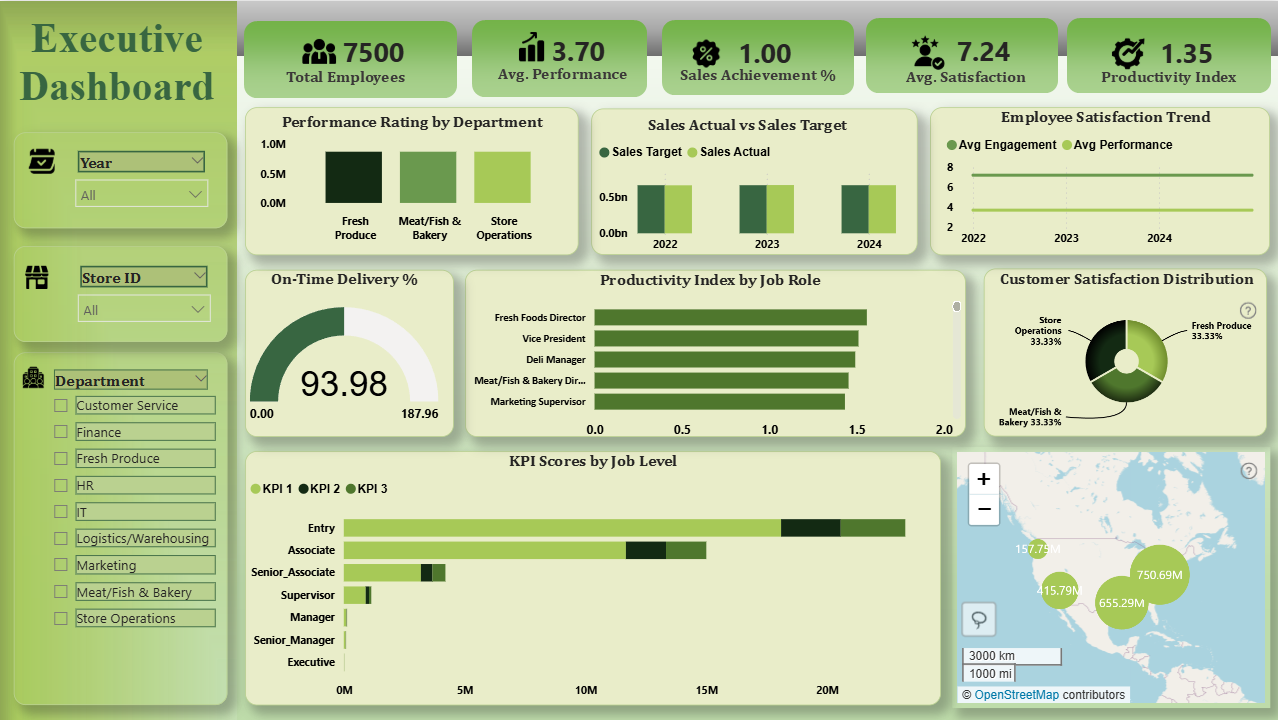

This screenshot's page, from the dashboard's own definition file:
{"tool":"powerbi","page":{"name":"Executive Dashboard","canvas":[1280,720],"ordinal":0},"visuals":[{"type":"shape","box":[245.4,450.4,695.8,254.3],"z":0},{"type":"shape","box":[984.2,266.9,283.4,168.3],"z":1000},{"type":"shape","box":[465.5,268.2,501,167],"z":2000},{"type":"shape","box":[245.4,268.2,208.7,167],"z":3000},{"type":"shape","box":[929.8,106.3,340.3,148],"z":4000},{"type":"shape","box":[590.8,107.5,326.4,146.7],"z":5000},{"type":"shape","box":[245.4,106.3,334,148],"z":6000},{"type":"shape","box":[13.9,351.7,213.8,353],"z":7000},{"type":"shape","box":[13.9,245.4,213.8,96.1],"z":8000},{"type":"shape","box":[13.9,131.6,213.8,96.1],"z":9000},{"type":"slicer","fields":{"Values":["business_outcomes.Year_Month"]},"box":[64.5,145.5,153.1,72.1],"z":10000},{"type":"slicer","fields":{"Values":["stores.Store_Id"]},"box":[67,260.6,153.1,64.5],"z":11000},{"type":"slicer","fields":{"Values":["employees.Department"]},"box":[41.7,364.3,179.6,303.6],"z":12000},{"type":"card","fields":{"Values":["Data_Dictionary.Avg Satisfaction"]},"box":[947.5,34.2,72.1,34.2],"z":13000},{"type":"card","fields":{"Values":["employees.Sales Achievement %"]},"box":[726.2,36.7,77.2,32.9],"z":14000},{"type":"card","fields":{"Values":["Avg(monthly_performance.Performance_Rating)"]},"box":[545.2,30.4,67,41.7],"z":15000},{"type":"card","fields":{"Values":["Avg(role_kpis.Productivity_Index)"]},"box":[1150,36.7,73.4,32.9],"z":16000},{"type":"columnChart","title":"Performance Rating by Department","fields":{"Category":["business_outcomes.Department"],"Y":["Sum(monthly_performance.Performance_Rating)"]},"box":[255.5,111.3,313.7,137.9],"z":17000},{"type":"areaChart","title":"Employee Satisfaction Trend","fields":{"Category":["business_outcomes.Year_Month.Variation.Date Hierarchy.Year","business_outcomes.Year_Month.Variation.Date Hierarchy.Quarter","business_outcomes.Year_Month.Variation.Date Hierarchy.Month","business_outcomes.Year_Month.Variation.Date Hierarchy.Day"],"Y":["Data_Dictionary.Avg Engagement","Data_Dictionary.Avg Performance"]},"box":[941.2,106.3,328.9,148],"z":18000},{"type":"barChart","title":"Productivity Index by Job Role","fields":{"Category":["employees.Job_Role"],"Y":["Avg(role_kpis.Productivity_Index)"]},"box":[454.2,268.2,512.4,178.4],"z":19000},{"type":"barChart","title":"KPI Scores by Job Level","fields":{"Category":["employees.Job_Level"],"Y":["Sum(role_kpis.Kpi_1_Value)","Sum(role_kpis.Kpi_2_Value)","Sum(role_kpis.Kpi_3_Value)"]},"box":[245.4,450.4,695.8,256.8],"z":20000},{"type":"ZoomChartsDrillDownMapPro6AFEEB10499543F282BD06EF315D5EAA","fields":{"latitude":["stores.City_Latitude"],"longitude":["stores.City_Longitude"],"value":["employees.Total Sales"],"name":["business_outcomes.Customer_Satisfaction"]},"box":[952.6,446.6,317.5,260.6],"z":21000},{"type":"ZoomChartsPieChartPaidE77E4ED357DC402ABA005987437CF500","title":"Customer Satisfaction Distribution","fields":{"Category":["business_outcomes.Department"],"Values":["Data_Dictionary.Avg Satisfaction"]},"box":[983.2,267.8,285.9,167.7],"z":22000},{"type":"gauge","title":"On-Time Delivery %","fields":{"Y":["employees.Avg On-Time Delivery %"]},"box":[245.4,266.9,198.6,179.6],"z":23000},{"type":"clusteredColumnChart","title":"Sales Actual vs Sales Target","fields":{"Category":["business_outcomes.Year_Month.Variation.Date Hierarchy.Year","business_outcomes.Year_Month.Variation.Date Hierarchy.Quarter","business_outcomes.Year_Month.Variation.Date Hierarchy.Month","business_outcomes.Year_Month.Variation.Date Hierarchy.Day"],"Y":["Sum(business_outcomes.Sales_Target)","Sum(business_outcomes.Sales_Actual)"]},"box":[593.3,113.9,307.4,146.7],"z":24000},{"type":"image","box":[17.7,139.2,46.8,41.7],"z":25000},{"type":"image","box":[10.1,260.6,53.1,32.9],"z":26000},{"type":"image","box":[13.9,360.5,39.2,32.9],"z":27000},{"type":"textbox","title":"Executive Dashboard","box":[10.1,13.9,213.8,93.6],"z":28000},{"type":"image","box":[684.4,34.2,41.7,38],"z":29000},{"type":"image","box":[510.3,22.9,43.4,45.8],"z":30000},{"type":"image","box":[292,27.7,53.1,45.8],"z":31000},{"type":"card","fields":{"Values":["employees.Total Employees"]},"box":[335.4,35,77.2,33.8],"z":32000},{"type":"image","box":[900.7,29.1,53.1,45.5],"z":33000},{"type":"image","box":[1105.7,30.4,44.3,45.5],"z":34000}]}

Visuals, with their boxes in screenshot pixels (x1, y1, x2, y2), scaled from the page's 1280x720 canvas onto the 1278x720 screenshot:
shape: locate(245, 450, 940, 705)
shape: locate(983, 267, 1266, 435)
shape: locate(465, 268, 965, 435)
shape: locate(245, 268, 453, 435)
shape: locate(928, 106, 1268, 254)
shape: locate(590, 108, 916, 254)
shape: locate(245, 106, 578, 254)
shape: locate(14, 352, 227, 705)
shape: locate(14, 245, 227, 342)
shape: locate(14, 132, 227, 228)
slicer - business_outcomes.Year_Month: locate(64, 146, 217, 218)
slicer - stores.Store_Id: locate(67, 261, 220, 325)
slicer - employees.Department: locate(42, 364, 221, 668)
card - Data_Dictionary.Avg Satisfaction: locate(946, 34, 1018, 68)
card - employees.Sales Achievement %: locate(725, 37, 802, 70)
card - Avg(monthly_performance.Performance_Rating): locate(544, 30, 611, 72)
card - Avg(role_kpis.Productivity_Index): locate(1148, 37, 1221, 70)
"Performance Rating by Department" columnChart: locate(255, 111, 568, 249)
"Employee Satisfaction Trend" areaChart: locate(940, 106, 1268, 254)
"Productivity Index by Job Role" barChart: locate(453, 268, 965, 447)
"KPI Scores by Job Level" barChart: locate(245, 450, 940, 707)
ZoomChartsDrillDownMapPro6AFEEB10499543F282BD06EF315D5EAA - stores.City_Latitude x stores.City_Longitude: locate(951, 447, 1268, 707)
"Customer Satisfaction Distribution" ZoomChartsPieChartPaidE77E4ED357DC402ABA005987437CF500: locate(982, 268, 1267, 436)
"On-Time Delivery %" gauge: locate(245, 267, 443, 446)
"Sales Actual vs Sales Target" clusteredColumnChart: locate(592, 114, 899, 261)
image: locate(18, 139, 64, 181)
image: locate(10, 261, 63, 294)
image: locate(14, 360, 53, 393)
"Executive Dashboard" textbox: locate(10, 14, 224, 108)
image: locate(683, 34, 725, 72)
image: locate(510, 23, 553, 69)
image: locate(292, 28, 345, 74)
card - employees.Total Employees: locate(335, 35, 412, 69)
image: locate(899, 29, 952, 75)
image: locate(1104, 30, 1148, 76)
